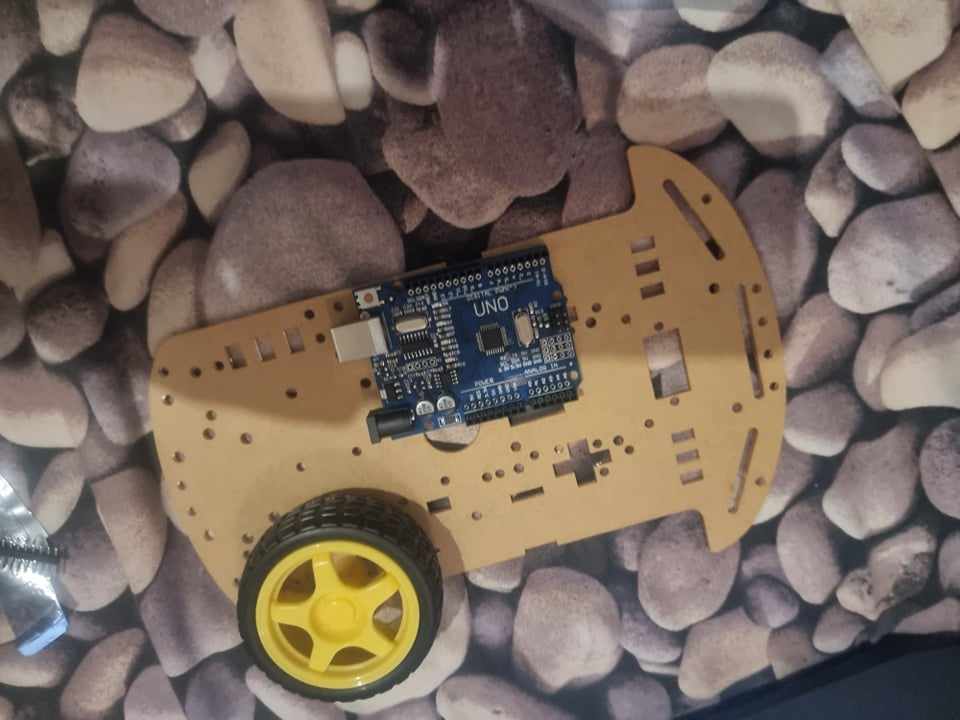UNO R3: (328, 246, 583, 445)
